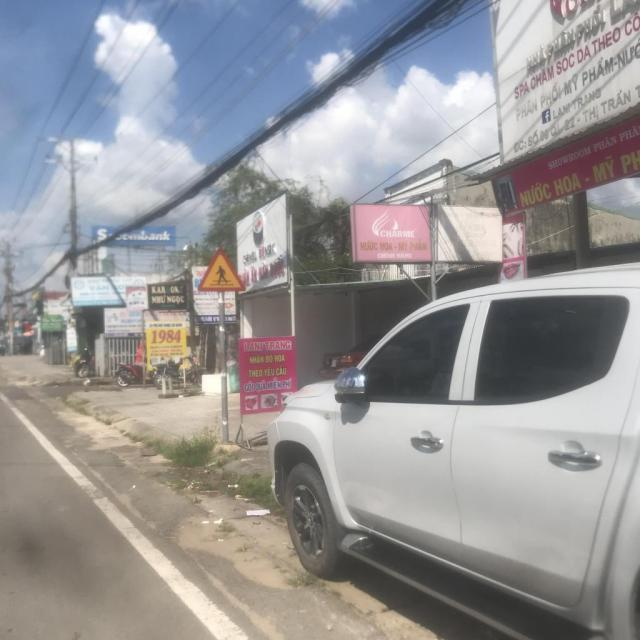chu_y_nguoi_di_bo_cat_ngang: (195, 247, 247, 292)
